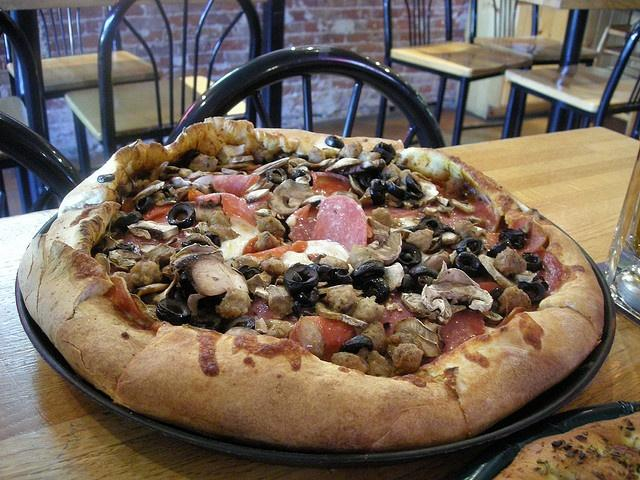Kursi: (65, 0, 261, 182), (373, 0, 529, 137), (500, 14, 639, 139)
